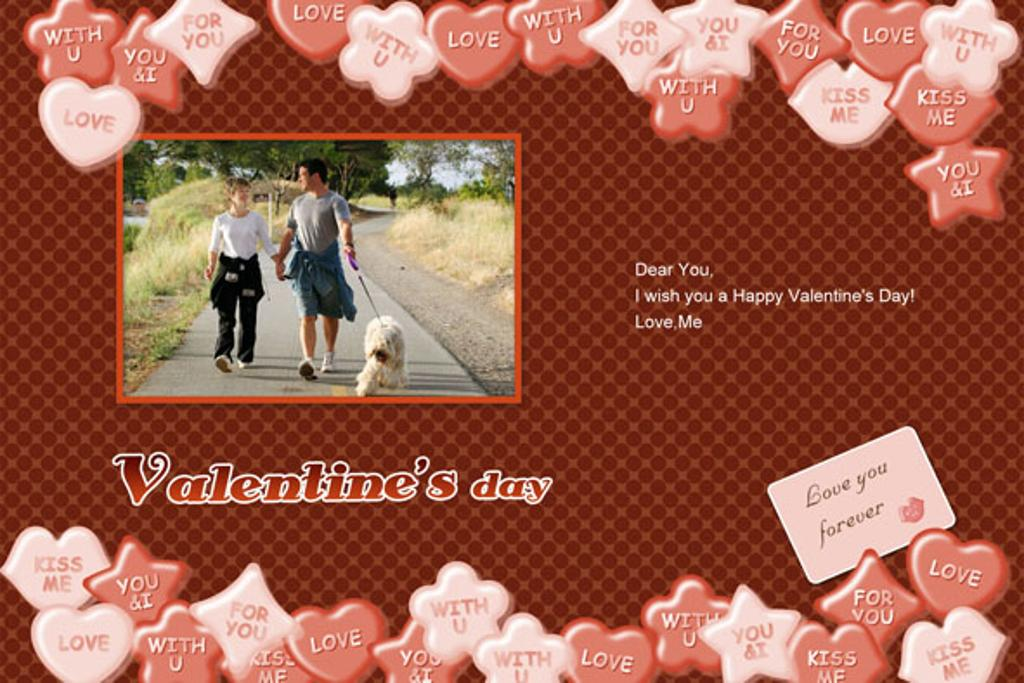face: (298, 166, 314, 190), (234, 184, 250, 205)
